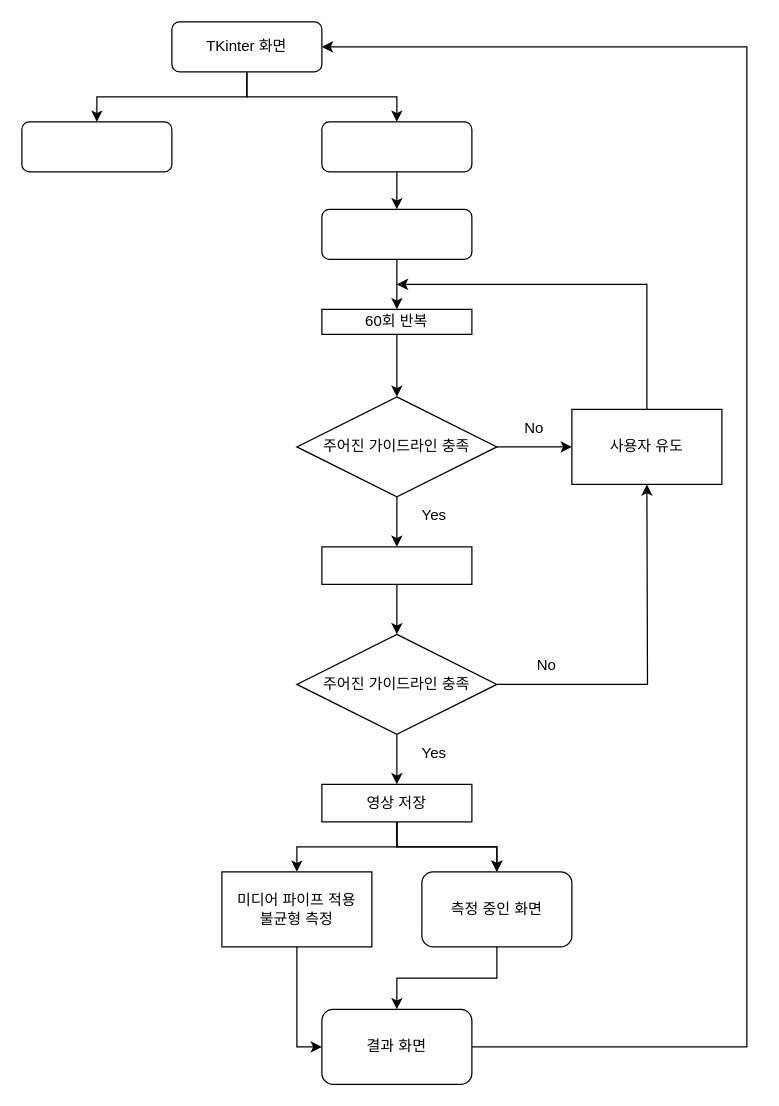
Image size: 779x1106. Some labels were removed from this diagram. Here are the shapes that lost their labels. From the top down, the box of each, then its label:
(21, 121, 172, 172): 얼굴 측정
(321, 121, 472, 172): 어깨 측정
(321, 208, 472, 259): 카메라 ON
(321, 546, 472, 584): N초 촬영 시작
